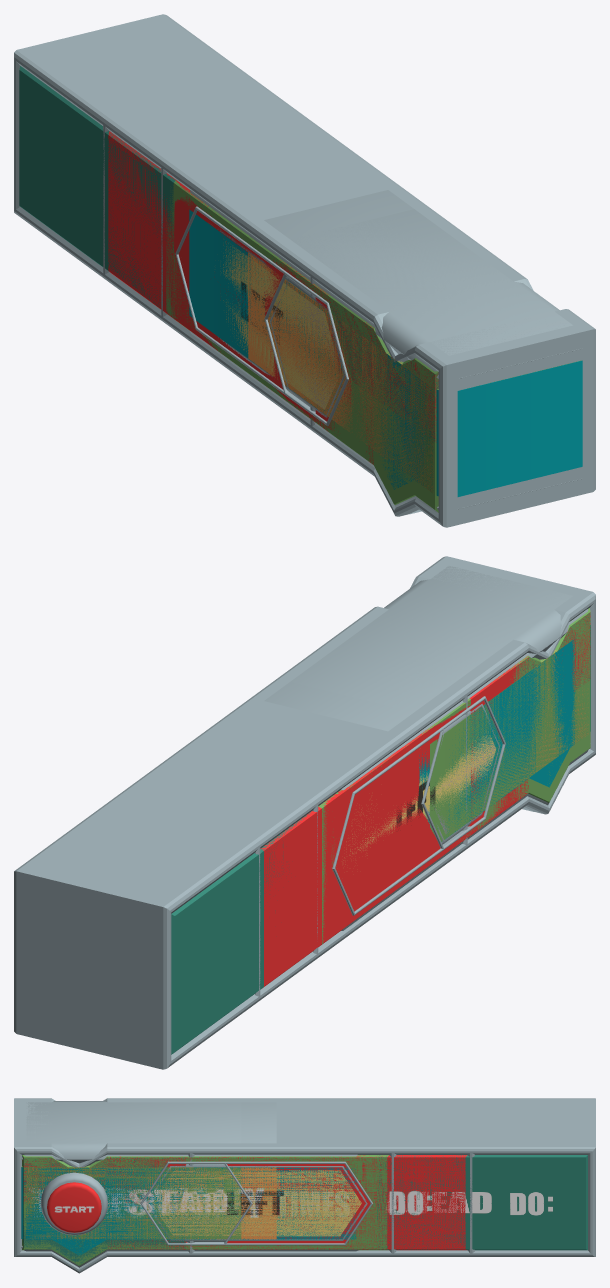
Rendered from Blocks_BlockProgramming-WithJoins (1).fbx.
3 views of the same model, one above another, from view 1: azimuth 30°, elevation 25°; view 2: azimuth 150°, elevation 25°; view 3: azimuth 270°, elevation 25° (orthographic). The views are drawn at different scales.
Parts seen in each view (by area): view 1: ActionBlock_Turn_Empty, CONTROL_IF, CONTROL_FOR_REPEAT, ActionBlock_GetHumidity, ActionBlock_Forward, MainBlock, Action_Left, CONTROL_FOR_REPEAT_END, Numbers; view 2: CONTROL_IF, CONTROL_FOR_REPEAT, ActionBlock_Forward, ActionBlock_Turn_Empty, ActionBlock_GetHumidity, MainBlock, CONTROL_FOR_REPEAT_END, Action_Left; view 3: CONTROL_IF, CONTROL_FOR_REPEAT, ActionBlock_Turn_Empty, ActionBlock_Forward, MainBlock, Action_Left, ActionBlock_GetHumidity, CONTROL_IF_END, CONTROL_FOR_REPEAT_END.
Boxes of the visible parts, x1,y1,x2,y2 form: ActionBlock_Turn_Empty: (161,122,595,527); CONTROL_IF: (14,14,595,445); CONTROL_FOR_REPEAT: (103,79,595,446); ActionBlock_GetHumidity: (248,190,572,491); ActionBlock_Forward: (275,209,581,508); MainBlock: (189,190,582,514); Action_Left: (209,223,344,417); CONTROL_FOR_REPEAT_END: (310,232,525,474); Numbers: (270,278,334,416); CONTROL_IF: (14,601,595,1069); CONTROL_FOR_REPEAT: (103,602,595,1002); ActionBlock_Forward: (290,566,588,841); ActionBlock_Turn_Empty: (162,556,595,958); ActionBlock_GetHumidity: (264,567,588,786); MainBlock: (341,625,590,930); CONTROL_FOR_REPEAT_END: (312,607,528,850); Action_Left: (343,704,499,864); CONTROL_IF: (14,1098,595,1256); CONTROL_FOR_REPEAT: (14,1098,475,1256); ActionBlock_Turn_Empty: (14,1098,397,1273); ActionBlock_Forward: (21,1101,241,1246); MainBlock: (21,1154,358,1267); Action_Left: (146,1164,367,1241); ActionBlock_GetHumidity: (26,1102,276,1239); CONTROL_IF_END: (22,1157,185,1265); CONTROL_FOR_REPEAT_END: (107,1098,195,1256).
Bounding box in the file's own units: 11.28 × 11.52 × 47.96.
